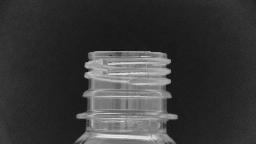No Cap: (73, 46, 181, 126)
